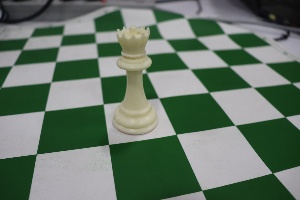white_queen: (100, 10, 162, 141)
